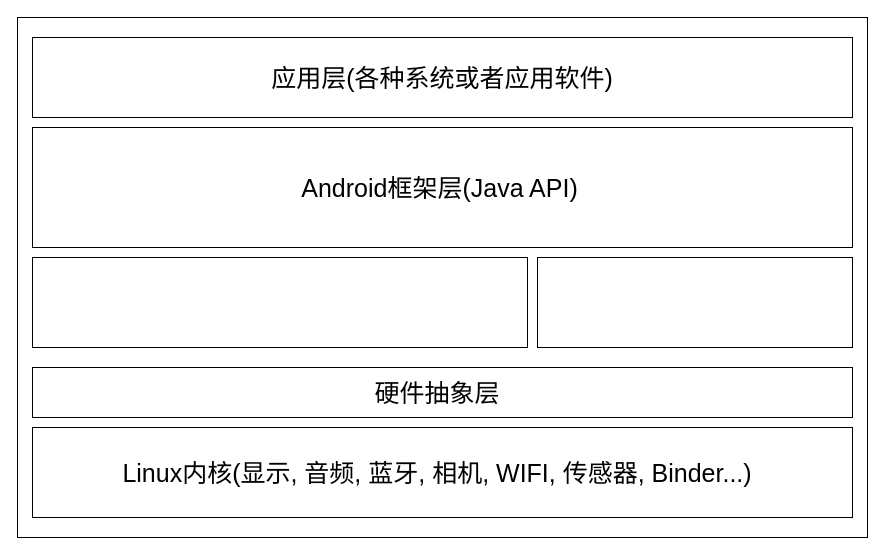
Image size: 885x555. Some labels were removed from this diagram. Here are the shapes that lost their labels. From the top down, the centre of each, then its label:
pixel 280 302: C/C++动态链接库 (libc, opengl/es, ssl, webkit, sqlite...)
pixel 694 302: Android Runtime (Art虚拟机, 核心链接库)
